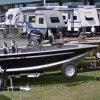Boat: (2, 34, 96, 87)
